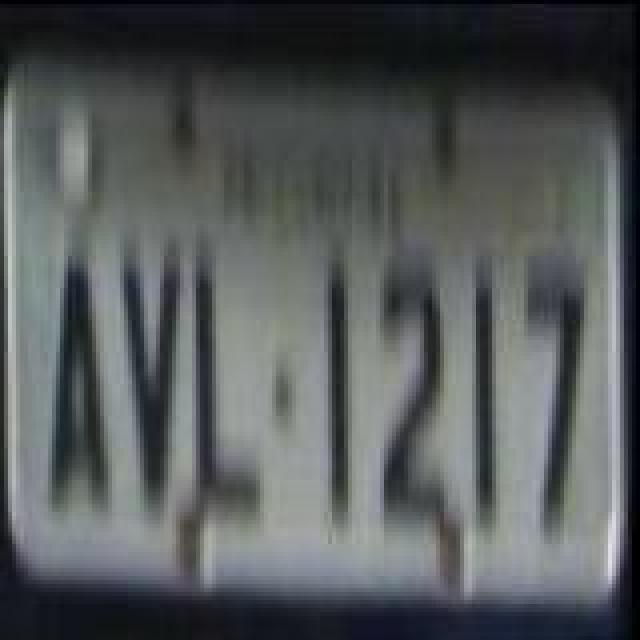1: (468, 258, 504, 526), (326, 264, 358, 524)
2: (374, 270, 454, 530)
7: (520, 258, 596, 542)
A: (48, 256, 116, 512)
L: (190, 254, 270, 514)
V: (116, 242, 188, 498)
